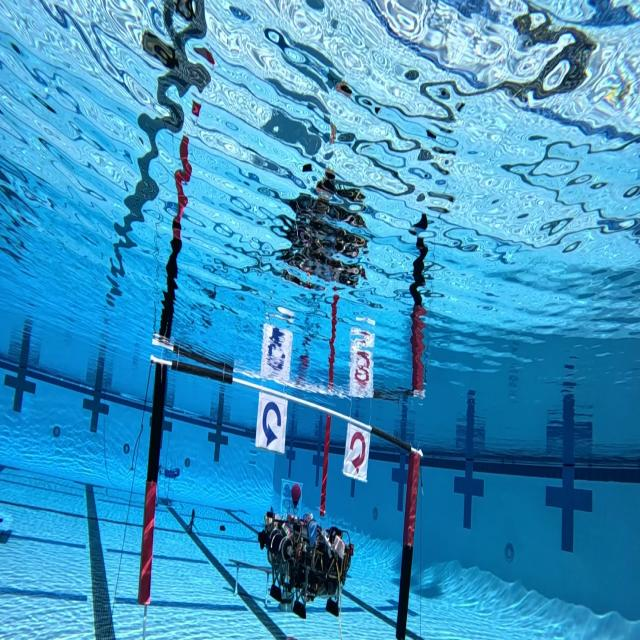blue_side: (255, 384, 289, 455)
red_side: (343, 421, 374, 484)
